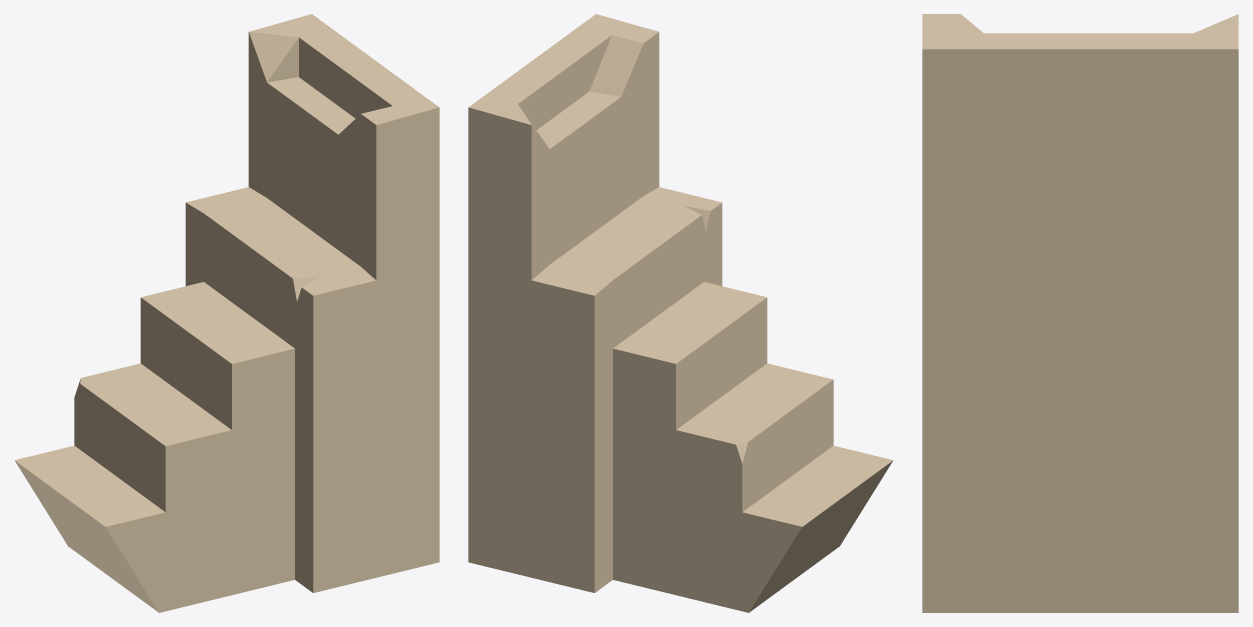
The model's file is LightSandStoneStepsSmallStairway1.fbx.
The picture shows the model from 3 angles, left to right: view 1: azimuth 30°, elevation 25°; view 2: azimuth 150°, elevation 25°; view 3: azimuth 270°, elevation 25°; orthographic projection. The views are drawn at different scales.
Parts seen in each view (by area): view 1: LightSandStoneStepsSmallStairway1; view 2: LightSandStoneStepsSmallStairway1; view 3: LightSandStoneStepsSmallStairway1.
Part boxes in pixels (<box>): LightSandStoneStepsSmallStairway1: <box>14,14,439,612</box>; LightSandStoneStepsSmallStairway1: <box>468,14,893,612</box>; LightSandStoneStepsSmallStairway1: <box>922,14,1238,612</box>.
Bounding box in the file's own units: 1000 × 1377 × 700.
1 material, 1 textured.
